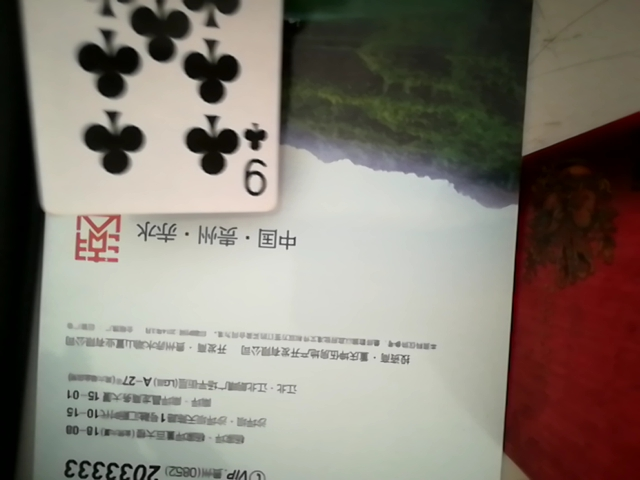mh 9: (11, 0, 289, 218)
